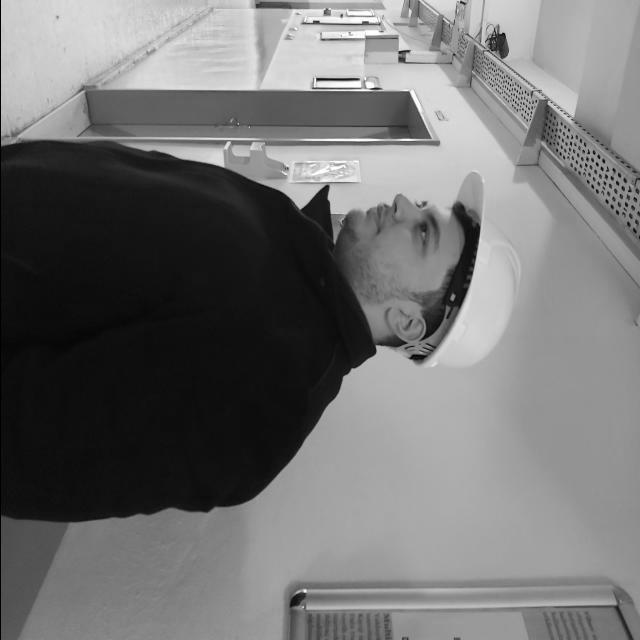construction helmet: (397, 170, 520, 371)
